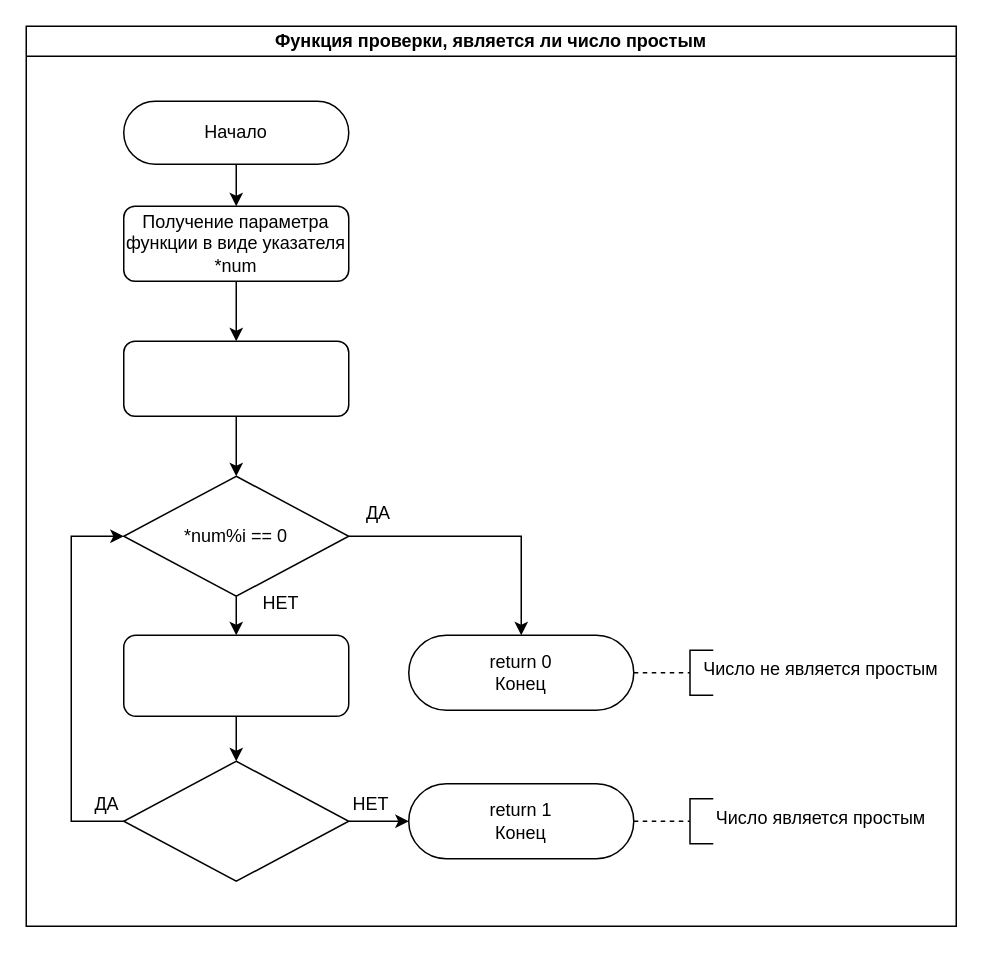
Image size: 983x953. Some labels were removed from this diagram. The shapes that lost their labels are listed below. From the top down, each one's centre as x and y in pixels, then its label:
At pixel 235 378: "Инициализация переменной int i = 2".
At pixel 235 675: "i++".
At pixel 235 820: "i < *num".
